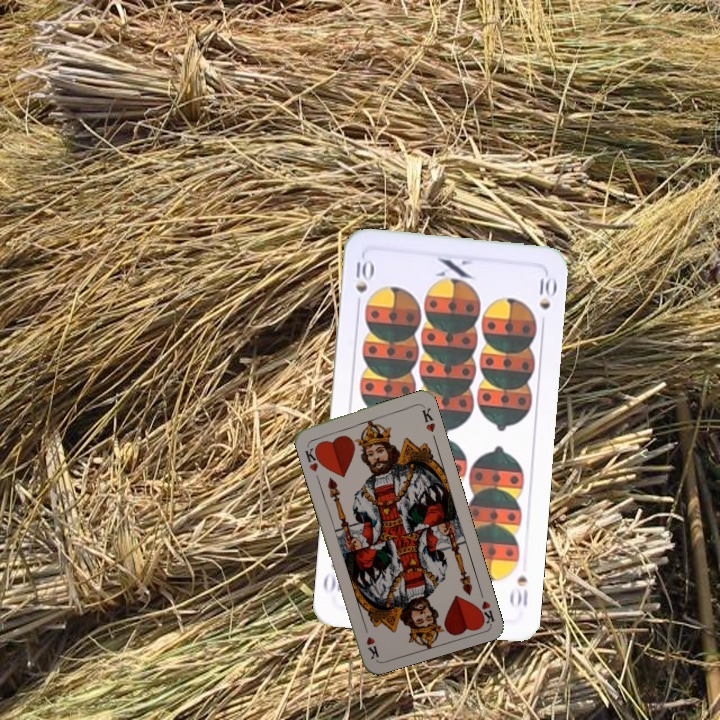HK: (473, 585, 497, 626), (301, 440, 325, 474)
S10: (352, 255, 374, 312), (506, 572, 530, 610)
